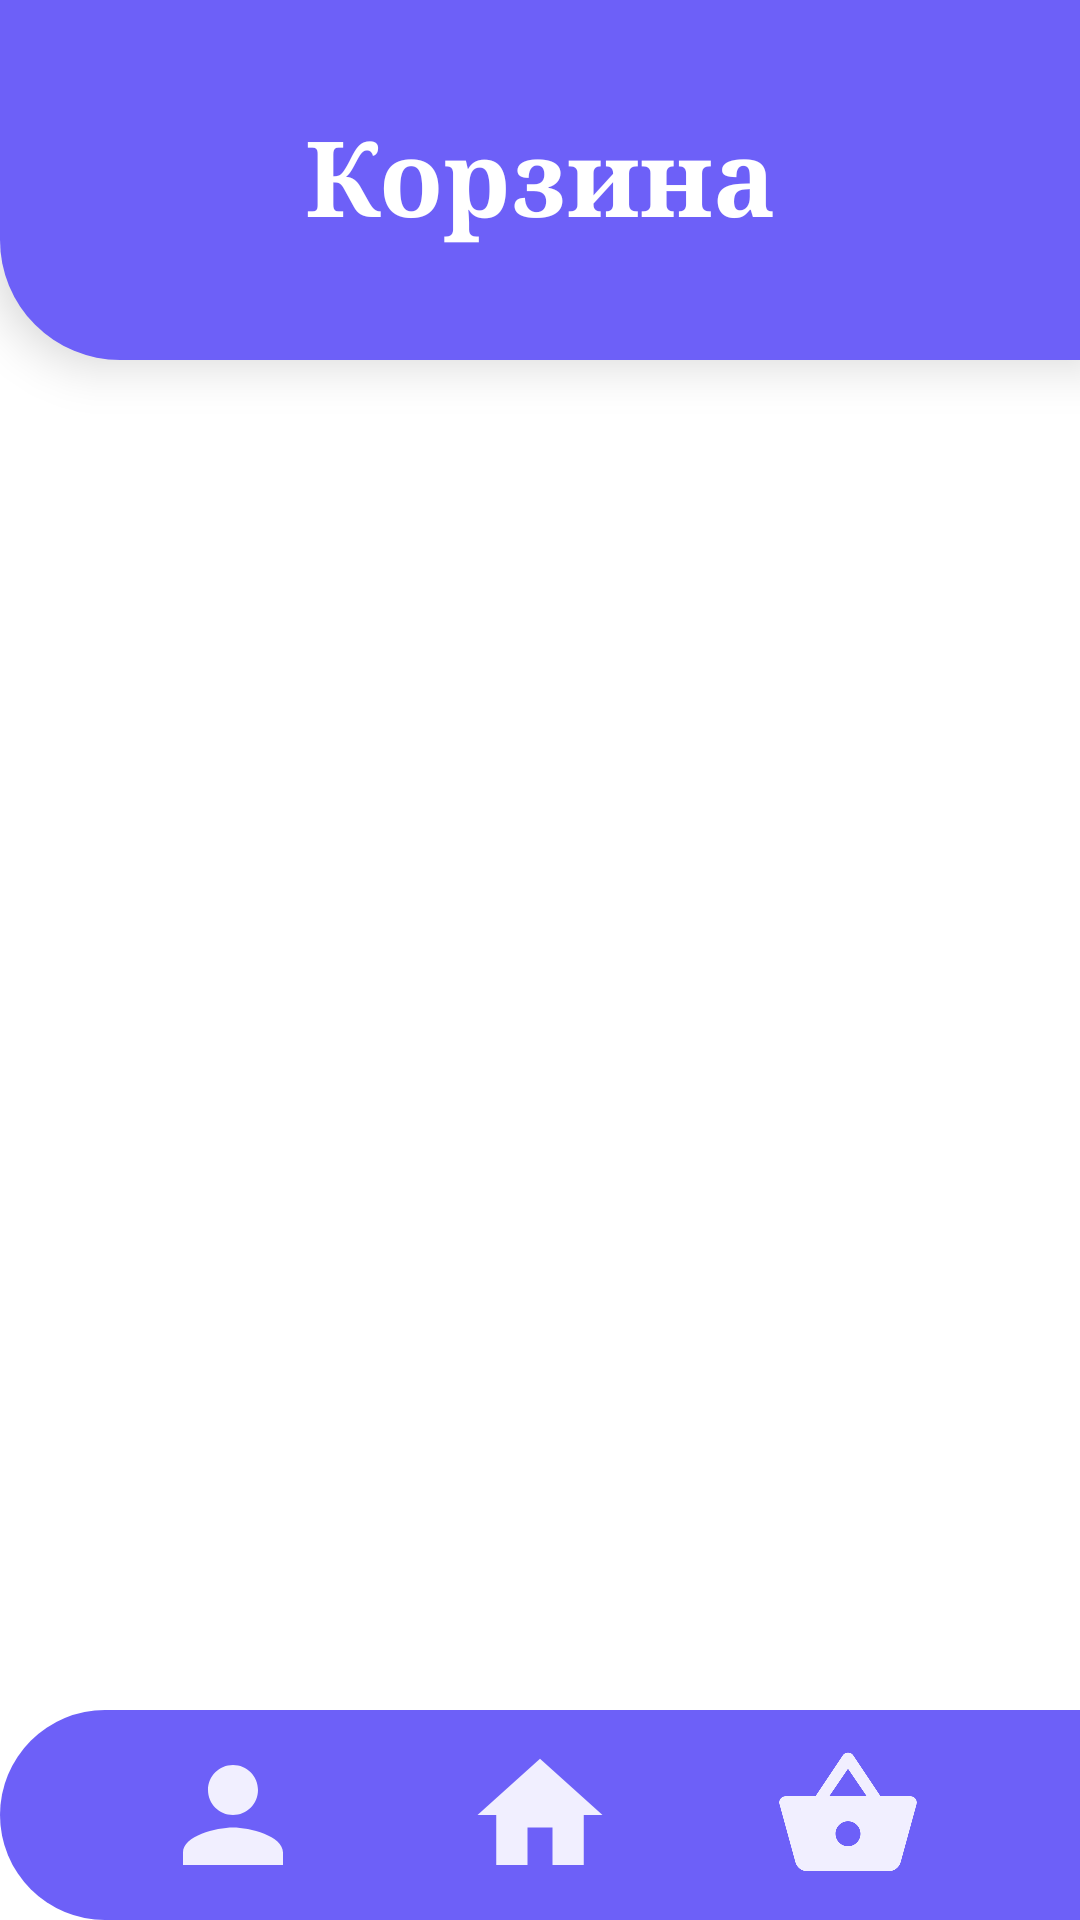

Icon click points for this 1080w x 1920h phone screenshot, format (x,y):
home: (540,1812)
person: (233,1815)
shopping basket: (848,1812)
